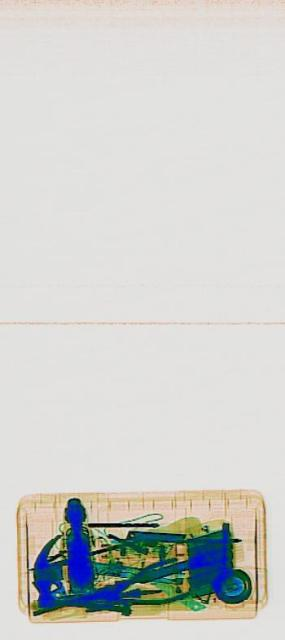Pliers: (92, 555, 179, 617)
